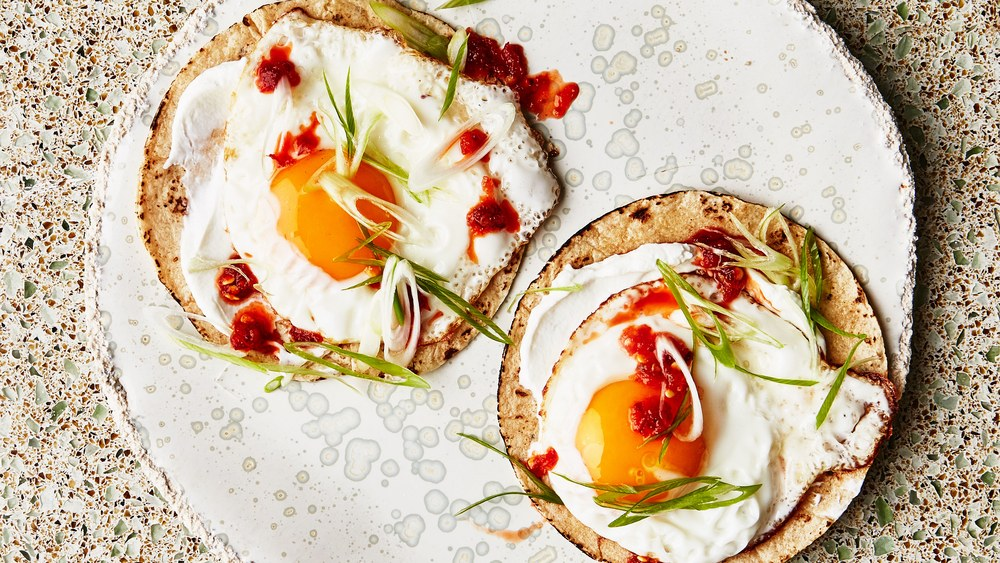fried egg: (187, 57, 465, 322), (552, 307, 825, 502)
